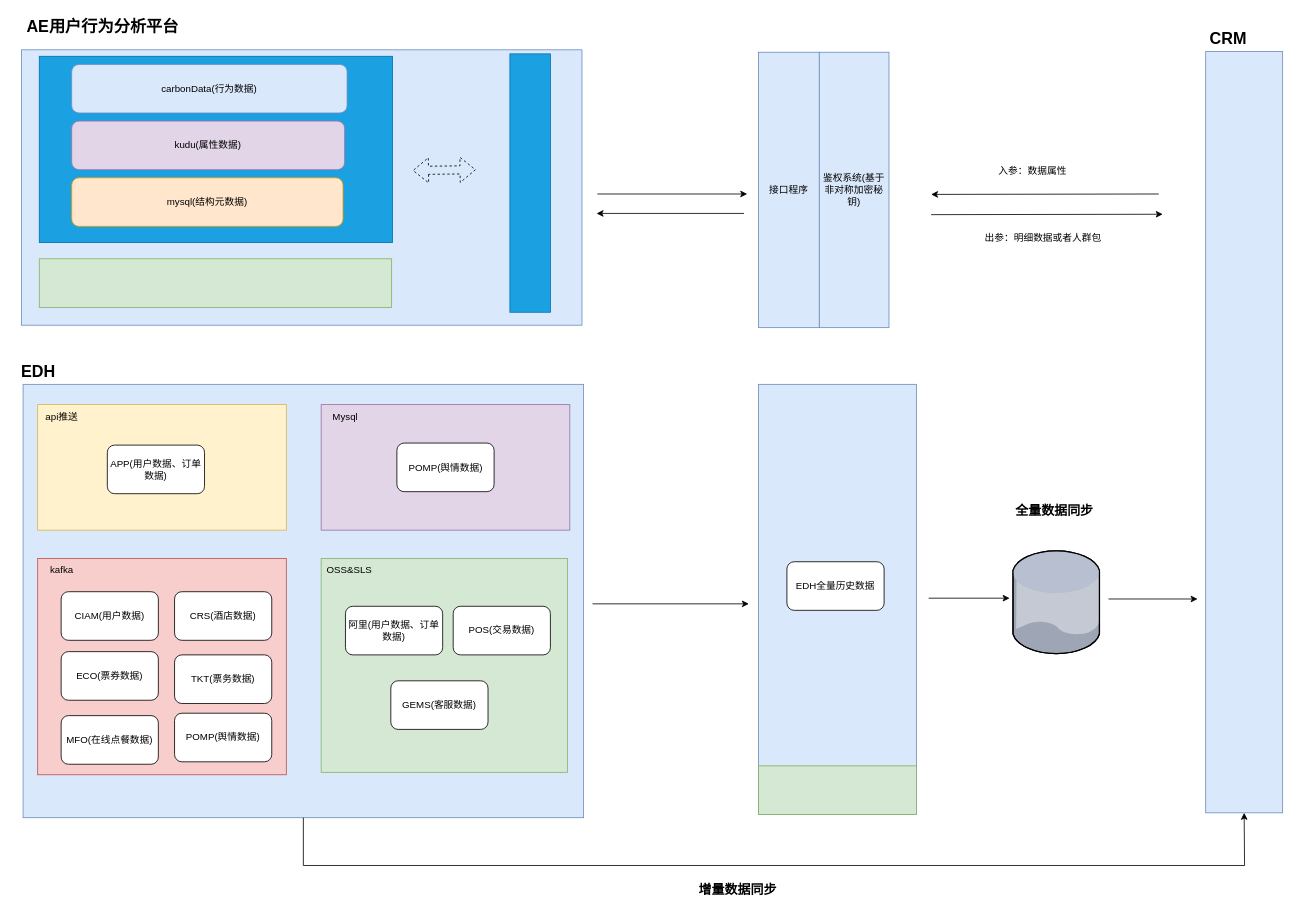
Some shapes in this 1297 by 915 pixel diagram are drawn without their labels. Each missing label, with the centre of its shape:
"CRM系统" goes at point 1244,432.
"Hadoop大数据集群" goes at point 215,282.
"HIVE" goes at point 837,789.
"OSS" goes at point 1056,601.
"Query Engin (查询引擎)" goes at point 529,182.
